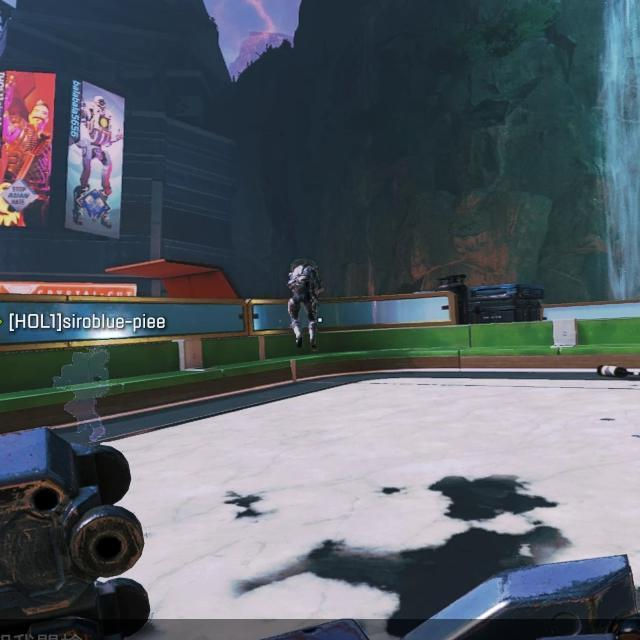avatar: (285, 260, 321, 346)
